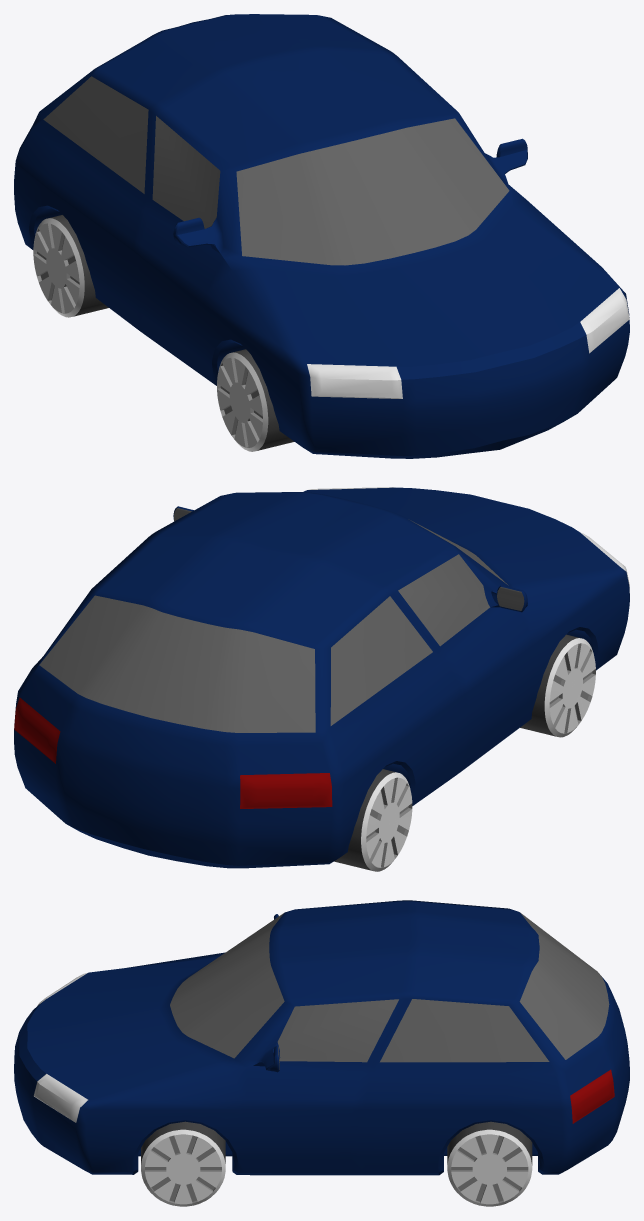
Rendered from BlueCar.fbx.
3 views of the same model, one above another, from view 1: azimuth 30°, elevation 25°; view 2: azimuth 150°, elevation 25°; view 3: azimuth 270°, elevation 25° (orthographic). The views are drawn at different scales.
Visible parts, largest first — view 1: taxi, frontwheel_R, backwheel_R; view 2: taxi, backwheel_R, frontwheel_R; view 3: taxi, backwheel_L, frontwheel_L.
Part boxes in pixels (<box>): taxi: <box>14,14,629,458</box>; frontwheel_R: <box>217,349,294,451</box>; backwheel_R: <box>33,215,108,317</box>; taxi: <box>14,487,629,868</box>; backwheel_R: <box>334,769,412,871</box>; frontwheel_R: <box>520,634,595,737</box>; taxi: <box>14,900,629,1175</box>; backwheel_L: <box>447,1121,532,1206</box>; frontwheel_L: <box>141,1121,225,1206</box>.
Bounding box in the file's own units: 12.06 × 8.09 × 21.81.
